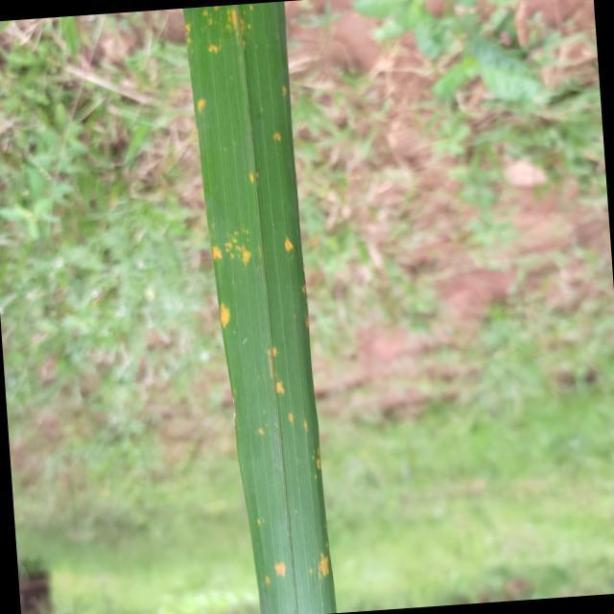Kalium: (179, 0, 339, 614)
